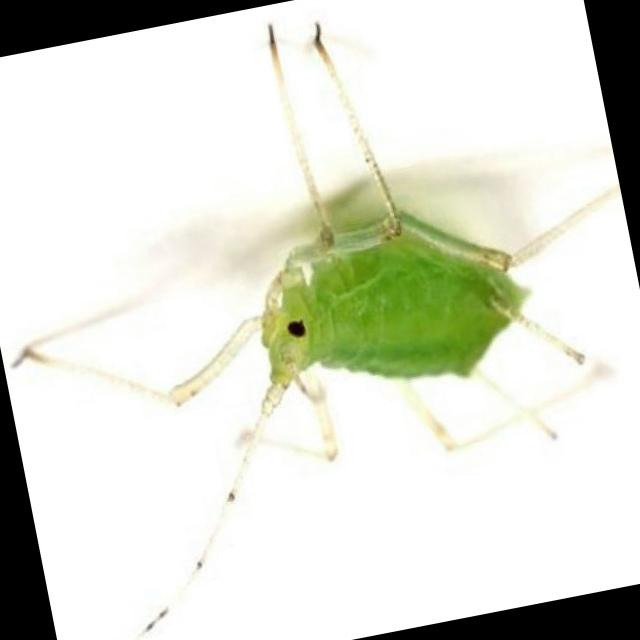aphid: (197, 139, 601, 498)
